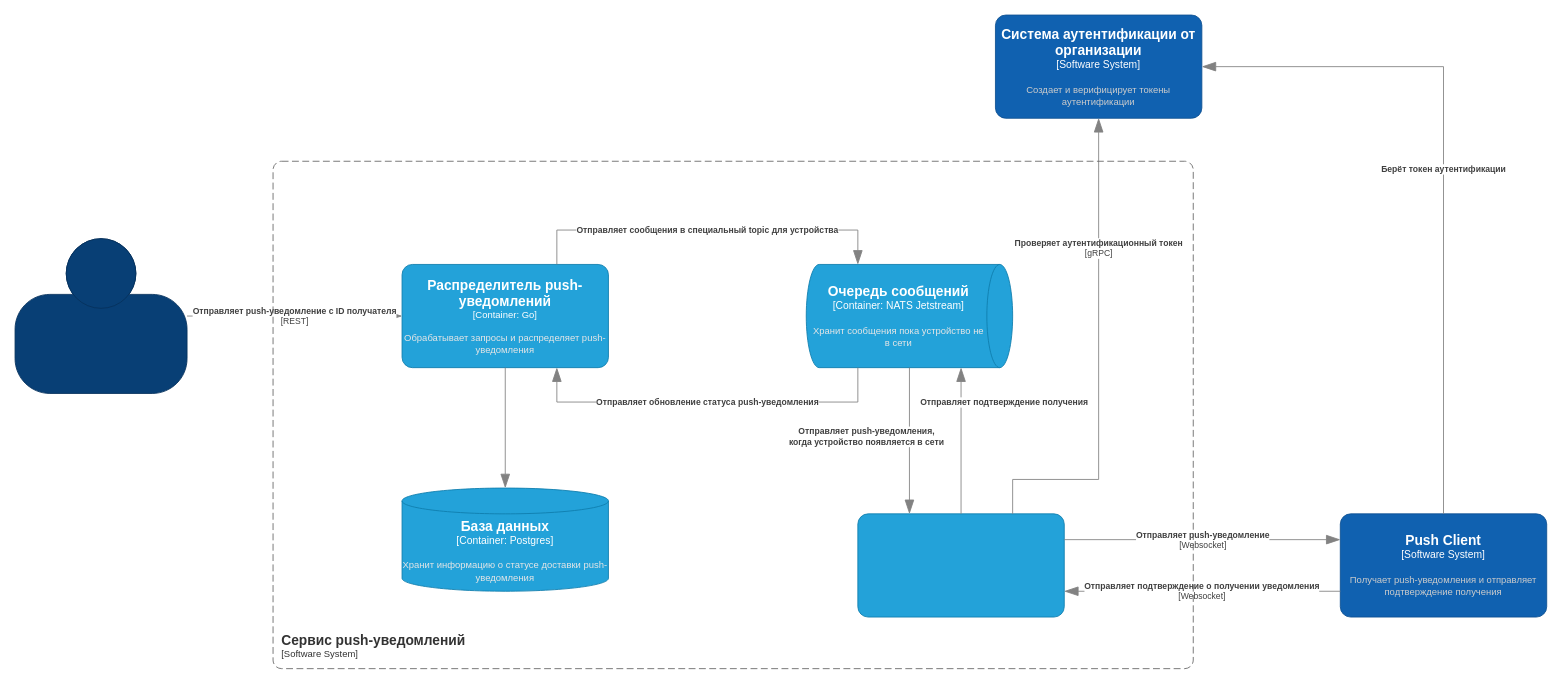
Some shapes in this 1562 by 684 pixel diagram are drawn without their labels. Here are the shapes that lost their labels. From the top down, the centre of each, then its label:
the point at 100,315: Заказчик уведомления [Person] Отправляет уведомление устройству по его ID
the point at 960,565: Push Gateway [Container: Go] Взаимодействует с клиентскими устройствами
